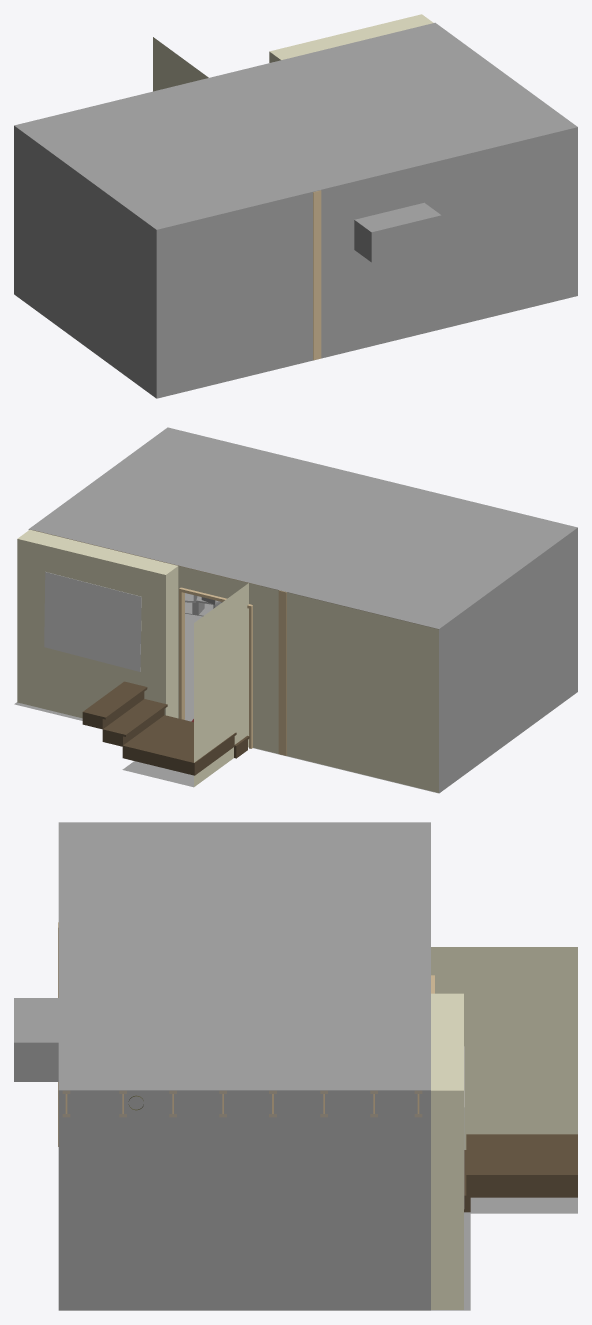
Rendered from basement draft 02.fbx.
The picture shows the model from 3 angles, top to bottom: view 1: azimuth 30°, elevation 25°; view 2: azimuth 150°, elevation 25°; view 3: azimuth 270°, elevation 25°; orthographic projection. The views are drawn at different scales.
Visible parts, largest first — view 1: Floor___Walls_x3_geo, pCube64, door_wall_geo, vertical_beam_01_geo; view 2: Floor___Walls_x3_geo, door_wall_geo, bulletin_board_geo, Stair_2_geo, stair_4_geo, stair_3_geo, door_frame_geo, vertical_beam_08_geo, cinderblocks:polySurface1; view 3: Floor___Walls_x3_geo, door_wall_geo, pCube64, stair_4_geo, Stair_2_geo.
Boxes of the visible parts, left/top/right/bottom form: Floor___Walls_x3_geo: left=14, top=22, right=577, bottom=398; pCube64: left=354, top=202, right=441, bottom=262; door_wall_geo: left=269, top=14, right=433, bottom=62; vertical_beam_01_geo: left=313, top=190, right=321, bottom=360; Floor___Walls_x3_geo: left=14, top=427, right=577, bottom=793; door_wall_geo: left=17, top=529, right=438, bottom=792; bulletin_board_geo: left=44, top=572, right=141, bottom=671; Stair_2_geo: left=122, top=715, right=236, bottom=775; stair_4_geo: left=82, top=681, right=147, bottom=729; stair_3_geo: left=102, top=699, right=167, bottom=746; door_frame_geo: left=179, top=587, right=252, bottom=748; vertical_beam_08_geo: left=278, top=590, right=286, bottom=755; cinderblocks:polySurface1: left=185, top=593, right=221, bottom=616; Floor___Walls_x3_geo: left=58, top=822, right=577, bottom=1310; door_wall_geo: left=431, top=993, right=463, bottom=1309; pCube64: left=14, top=998, right=58, bottom=1081; stair_4_geo: left=466, top=1160, right=577, bottom=1191; Stair_2_geo: left=466, top=1134, right=577, bottom=1197.
Bounding box in the file's own units: 205 × 79.3 × 182.
